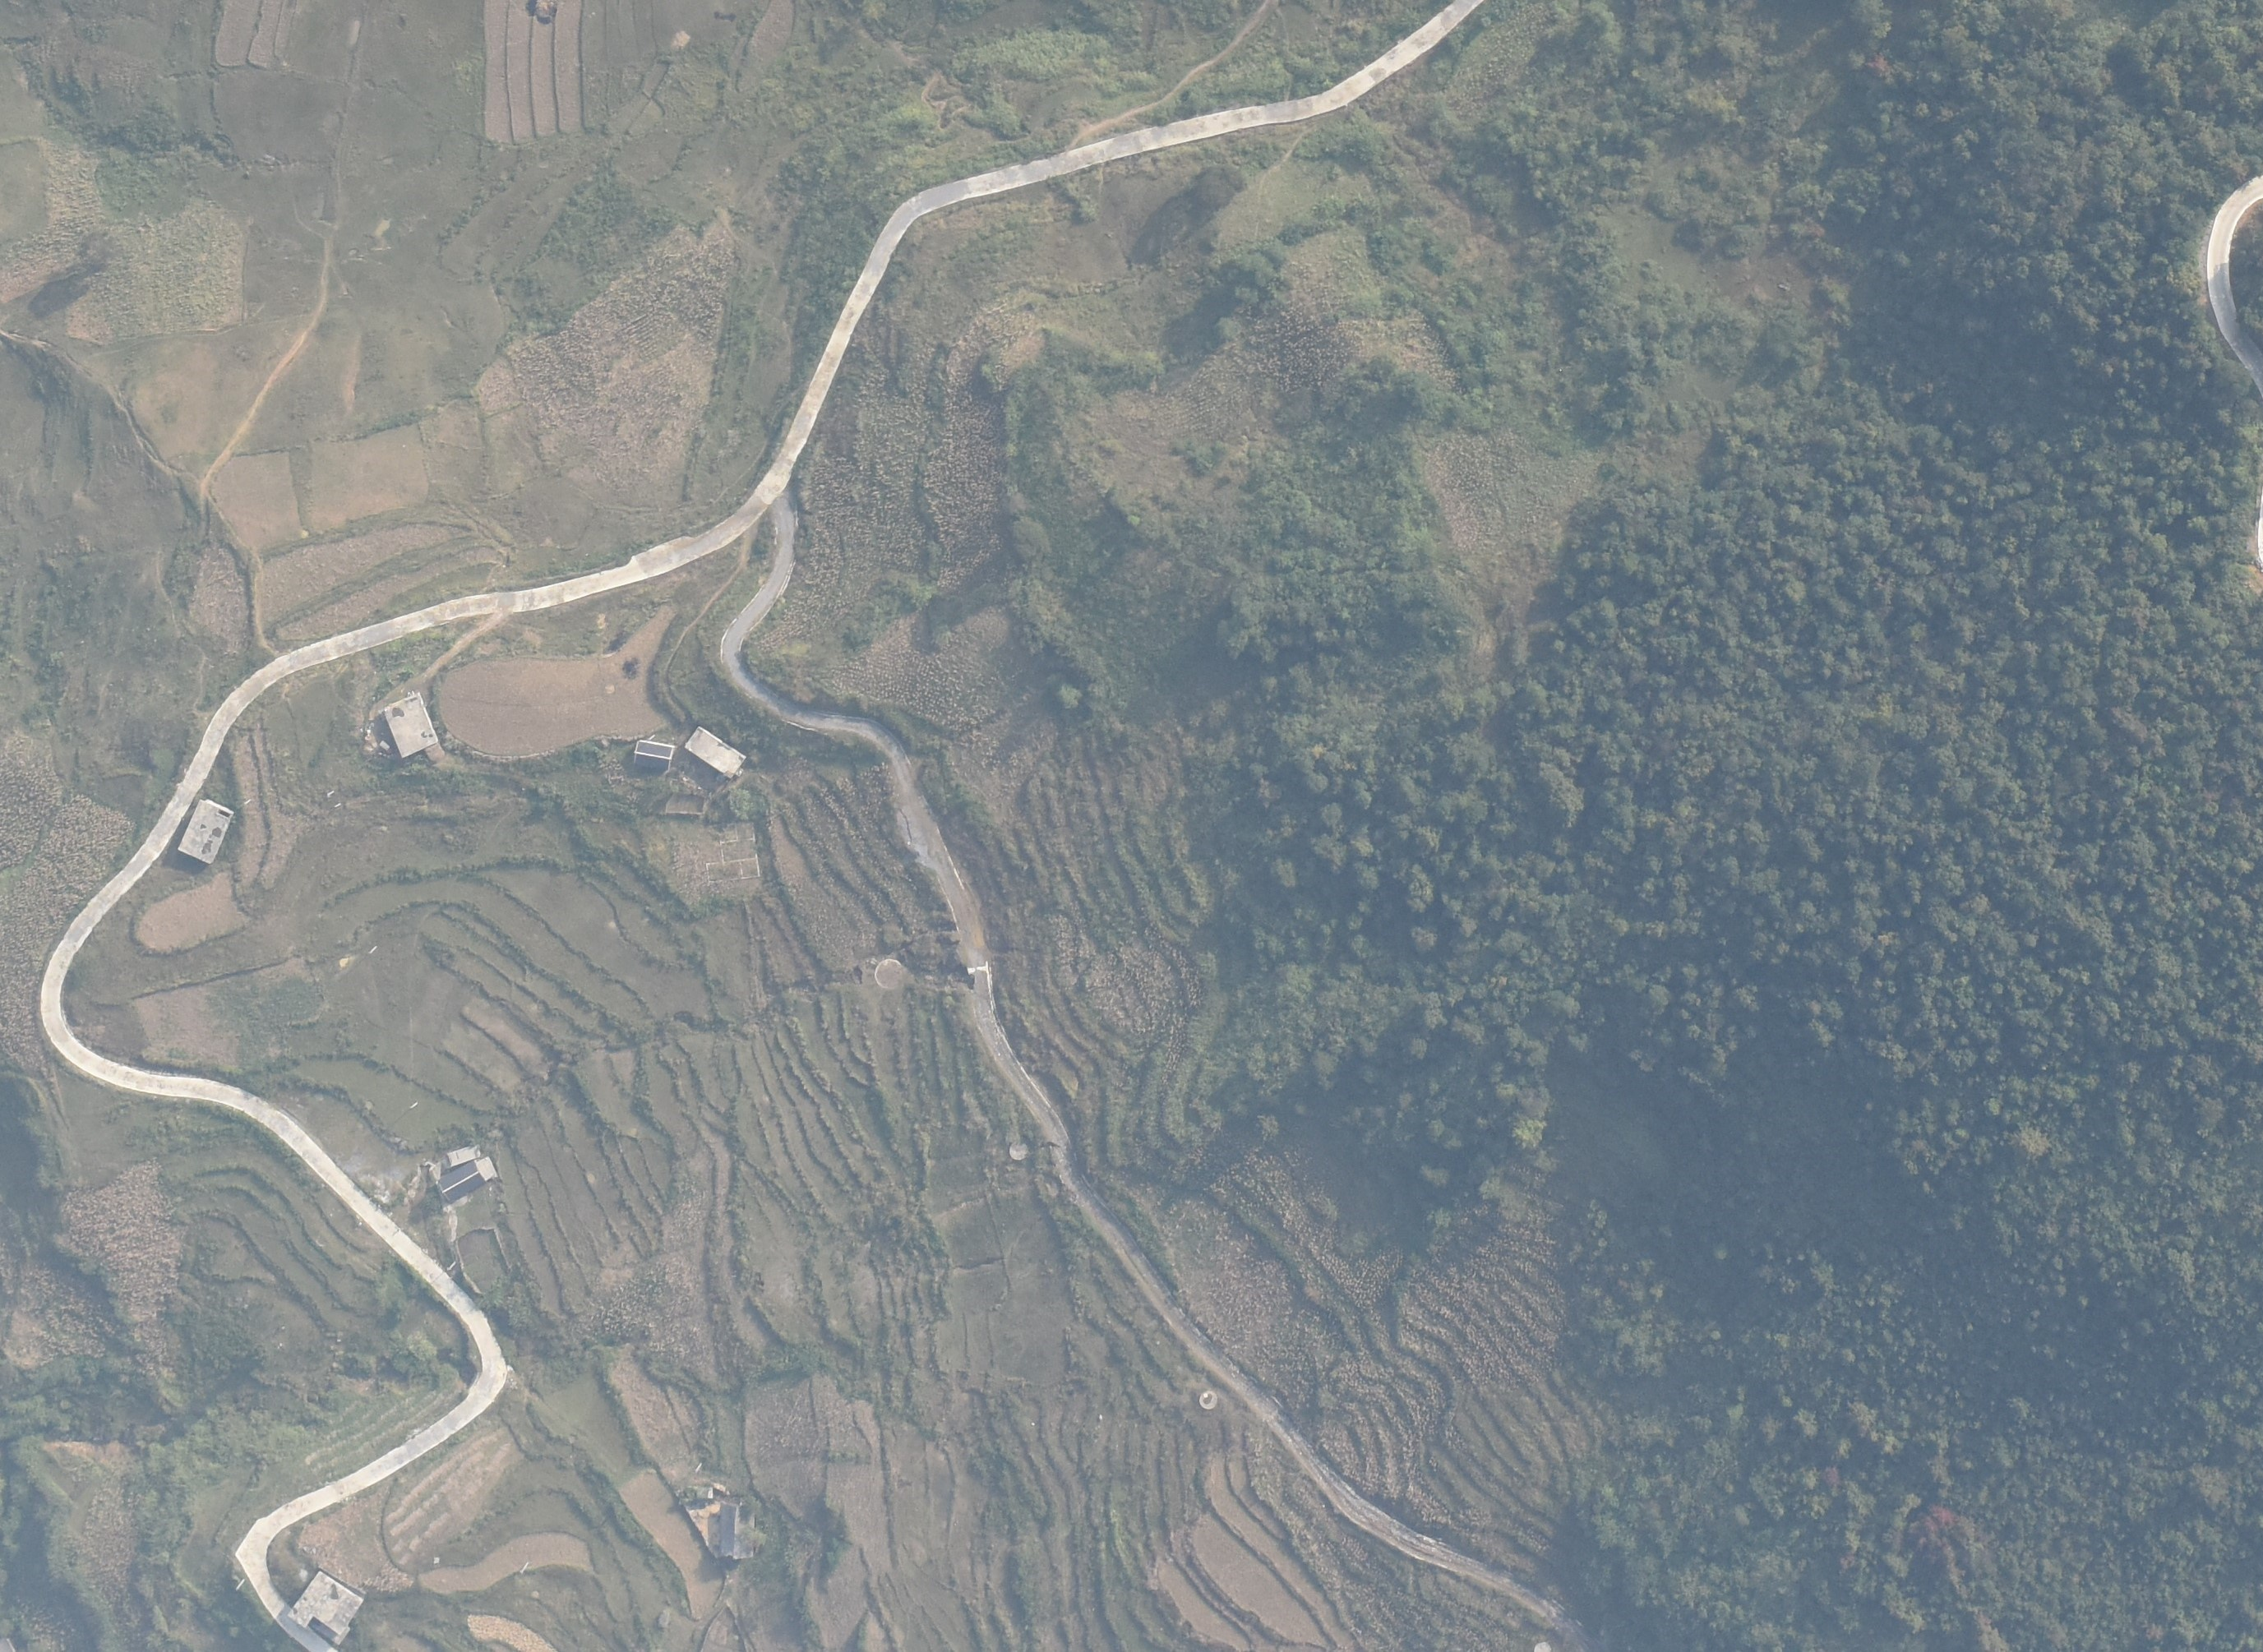building: (673, 1474, 765, 1571), (276, 1564, 371, 1652), (381, 688, 443, 761), (173, 796, 236, 869), (426, 1154, 505, 1207), (685, 727, 757, 780), (632, 736, 677, 773), (440, 1143, 492, 1169), (474, 1156, 502, 1184)
well: (1000, 1134, 1034, 1162), (1197, 1384, 1223, 1415)
